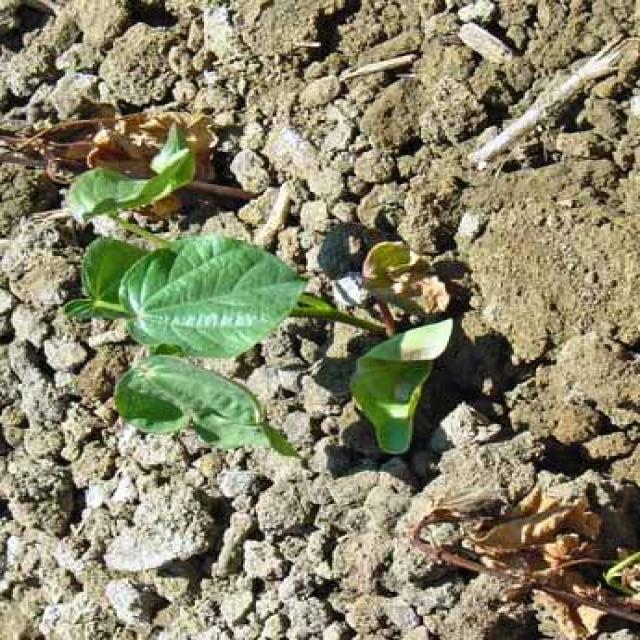Fusarium Wilt: (14, 73, 630, 593)
